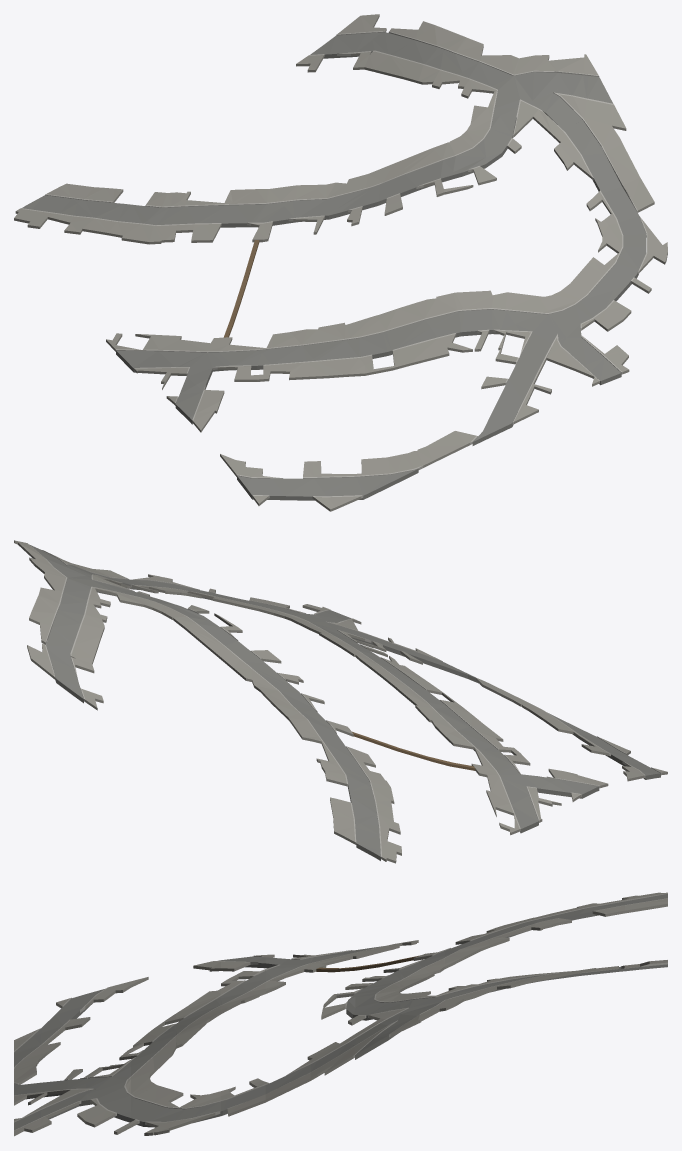
File: 18-218893-118967.adf8a64d.glb
The picture shows the model from 3 angles, top to bottom: view 1: azimuth 30°, elevation 25°; view 2: azimuth 150°, elevation 25°; view 3: azimuth 270°, elevation 25°; orthographic projection. The views are drawn at different scales.
Bounding box in the file's own units: 147 × 66.66 × 146.
